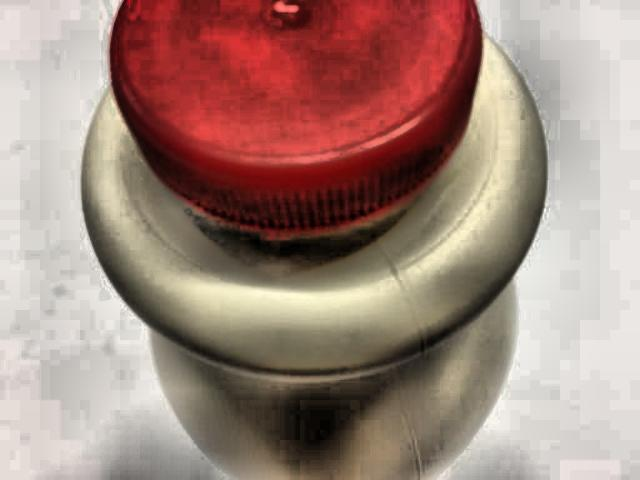Plastic: (65, 0, 556, 408)
